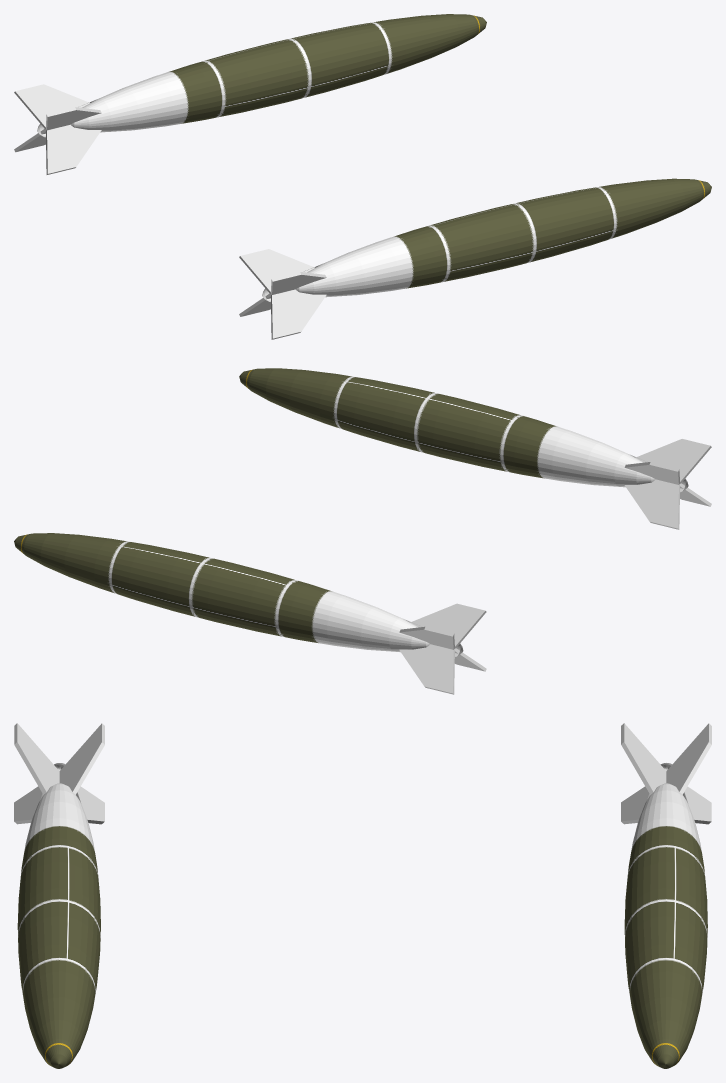
Rendered from f15egbu3135.glb.
3 views of the same model, one above another, from view 1: azimuth 30°, elevation 25°; view 2: azimuth 150°, elevation 25°; view 3: azimuth 270°, elevation 25° (orthographic). The views are drawn at different scales.
Parts seen in each view (by area): view 1: 立方体.024, 立方体.026; view 2: 立方体.024, 立方体.026; view 3: 立方体.024, 立方体.026.
Boxes of the visible parts, <box> form: 立方体.024: <box>14,14,486,174</box>; 立方体.026: <box>239,178,711,339</box>; 立方体.024: <box>14,533,486,694</box>; 立方体.026: <box>239,368,711,529</box>; 立方体.024: <box>621,723,711,1068</box>; 立方体.026: <box>14,723,104,1068</box>.
Bounding box in the file's own units: 3.8 × 0.4884 × 3.74.
Materials: 1 (1 with a texture image).
